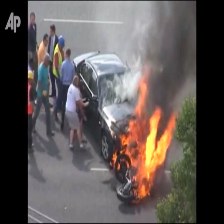fire_h: (120, 63, 176, 203)
fire_l: (117, 158, 130, 170), (112, 150, 117, 169)
